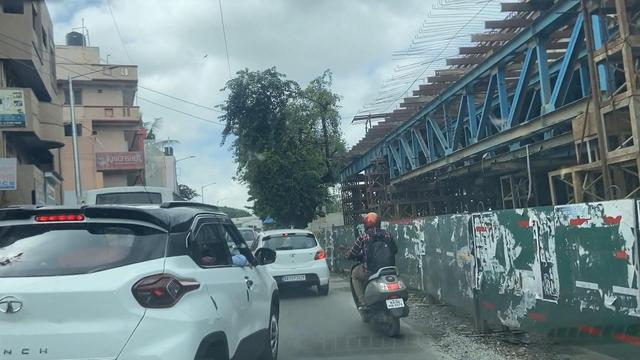LMV: (355, 221, 400, 333)
